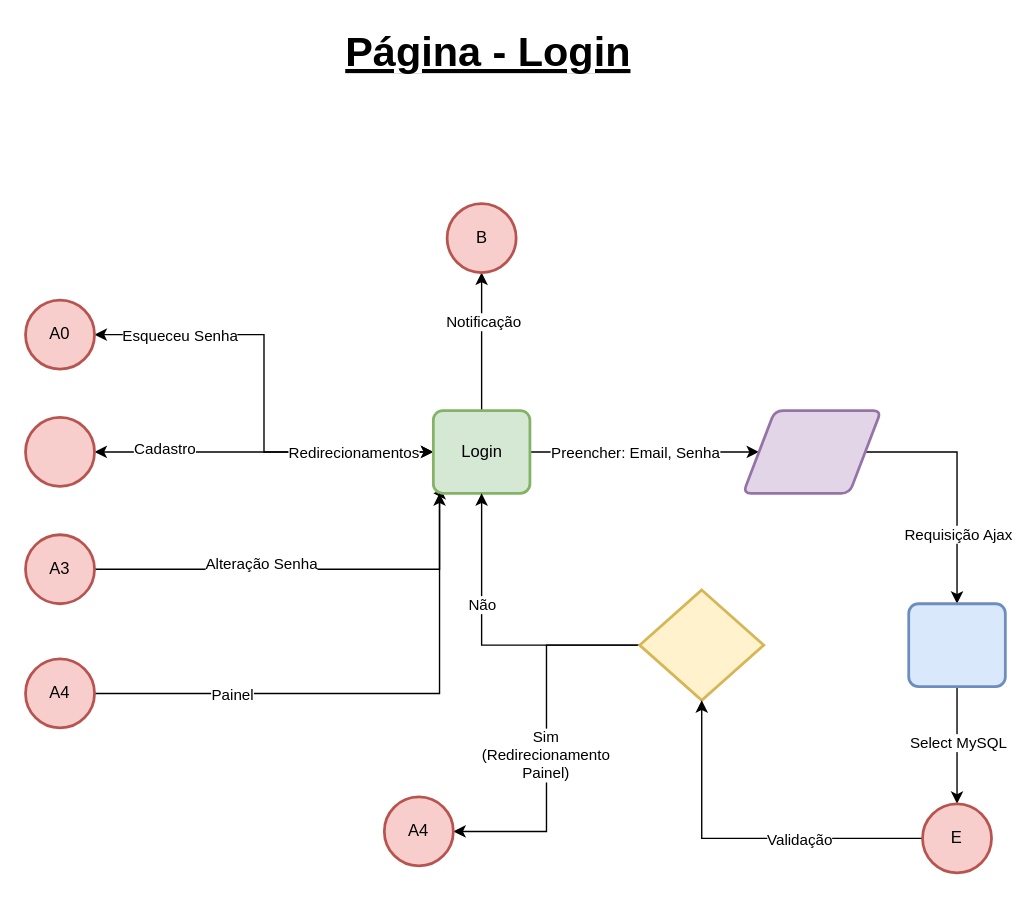
This 1035x897 diagram has some shape labels left out. Here are the shapes that lost their labels. From the top down, the centre of each, then its label:
point (59, 451): A1
point (811, 451): Formulário
point (701, 644): Campos Válidos?
point (956, 644): Validação Campos
